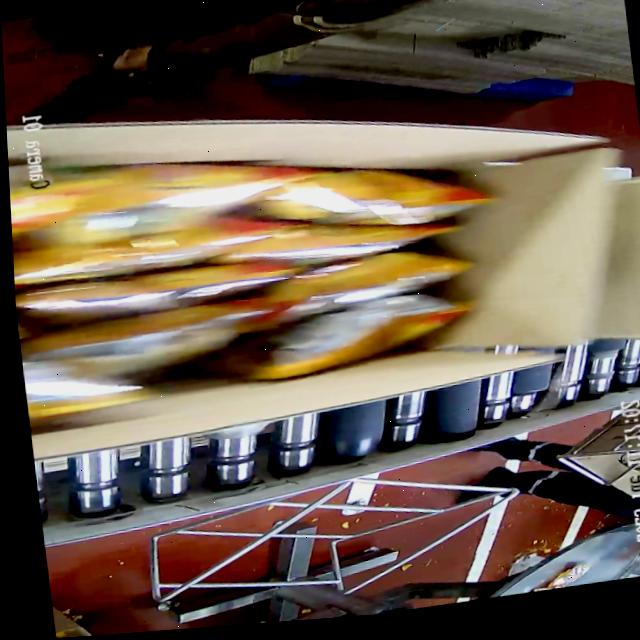FRENCH_CHEESE: (6, 83, 488, 427)
